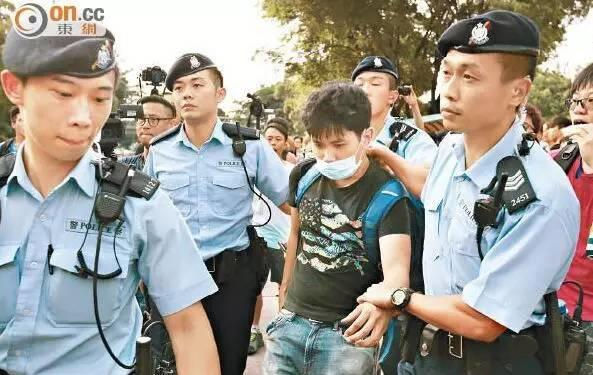NONE: (29, 75, 116, 161), (441, 56, 505, 131), (173, 76, 218, 121), (354, 76, 393, 119), (570, 88, 593, 140), (138, 108, 169, 146), (266, 133, 282, 156)
WRONG: (314, 133, 362, 181)
